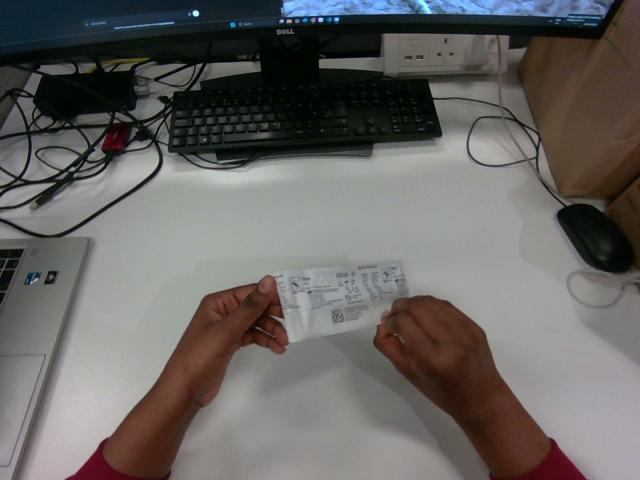syringe: (274, 261, 408, 342)
